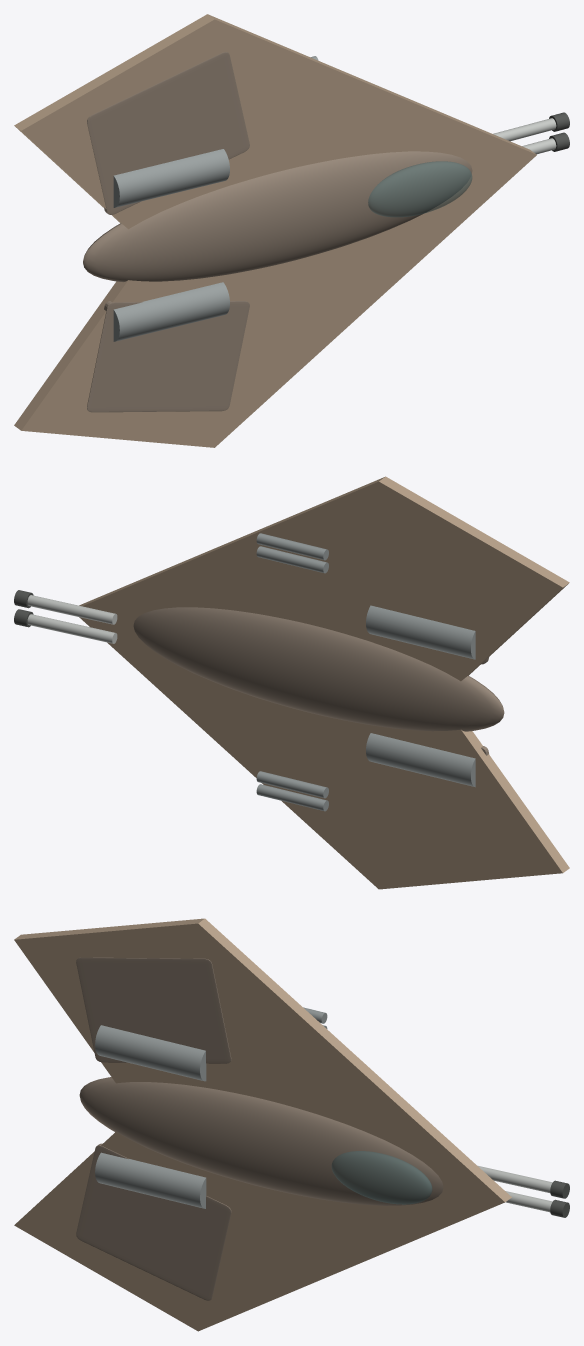
The model's file is d-x06-dominion-reserveStrike-lod1.glb.
The picture shows the model from 3 angles, top to bottom: view 1: azimuth 30°, elevation 25°; view 2: azimuth 150°, elevation 25°; view 3: azimuth 330°, elevation 25°; orthographic projection. The views are drawn at different scales.
Parts seen in each view (by area): view 1: flying_wing_planform, flying_wing_core, flying_wing_elevon_1, flying_wing_elevon_-1, flying_wing_canopy, flying_wing_engine_0, flying_wing_engine_1, flying_wing_gun_barrel_1; view 2: flying_wing_planform, flying_wing_core, flying_wing_engine_0, flying_wing_engine_1, flying_wing_gun_barrel_1, flying_wing_gun_barrel_0, flying_wing_-1_tube_1, flying_wing_-1_tube_2, flying_wing_1_tube_1, flying_wing_1_tube_2; view 3: flying_wing_planform, flying_wing_core, flying_wing_elevon_1, flying_wing_elevon_-1, flying_wing_canopy, flying_wing_engine_0, flying_wing_engine_1, flying_wing_gun_barrel_1, flying_wing_gun_barrel_0.
Boxes of the visible parts, left/top/right/bottom form: flying_wing_planform: left=14, top=14, right=536, bottom=447; flying_wing_core: left=83, top=151, right=472, bottom=282; flying_wing_elevon_1: left=87, top=52, right=249, bottom=214; flying_wing_elevon_-1: left=87, top=301, right=249, bottom=412; flying_wing_canopy: left=368, top=161, right=472, bottom=217; flying_wing_engine_0: left=113, top=282, right=229, bottom=341; flying_wing_engine_1: left=113, top=149, right=229, bottom=207; flying_wing_gun_barrel_1: left=493, top=118, right=556, bottom=141; flying_wing_planform: left=79, top=476, right=569, bottom=889; flying_wing_core: left=133, top=607, right=504, bottom=731; flying_wing_engine_0: left=366, top=733, right=475, bottom=787; flying_wing_engine_1: left=366, top=605, right=475, bottom=659; flying_wing_gun_barrel_1: left=27, top=595, right=117, bottom=624; flying_wing_gun_barrel_0: left=27, top=614, right=117, bottom=643; flying_wing_-1_tube_1: left=256, top=784, right=328, bottom=811; flying_wing_-1_tube_2: left=256, top=771, right=328, bottom=798; flying_wing_1_tube_1: left=256, top=546, right=328, bottom=573; flying_wing_1_tube_2: left=256, top=533, right=328, bottom=560; flying_wing_planform: left=14, top=918, right=511, bottom=1331; flying_wing_core: left=79, top=1077, right=443, bottom=1205; flying_wing_elevon_1: left=76, top=957, right=231, bottom=1063; flying_wing_elevon_-1: left=76, top=1143, right=231, bottom=1300; flying_wing_canopy: left=331, top=1151, right=432, bottom=1204; flying_wing_engine_0: left=95, top=1152, right=206, bottom=1208; flying_wing_engine_1: left=95, top=1025, right=206, bottom=1081; flying_wing_gun_barrel_1: left=477, top=1165, right=552, bottom=1192; flying_wing_gun_barrel_0: left=505, top=1191, right=552, bottom=1212.
Size of what is drawn, in the model's own units: 16.38 by 11.92 by 1.75.
